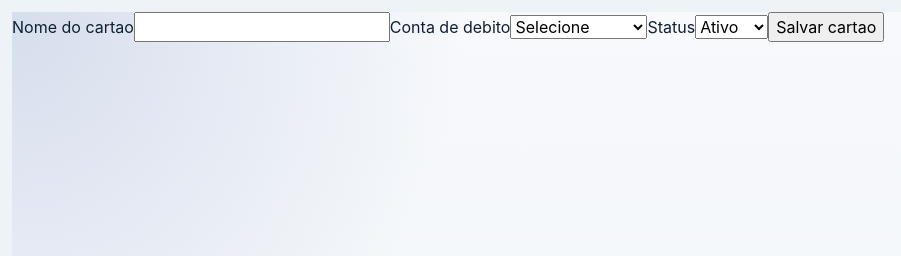
Test: accounts and cards forms validation › bloqueia envio invalido do CardForm e exibe mensagens por campo
The width and height of the screenshot is (901, 256).
Click the button "Salvar cartao" at (826,27), box [768,12,884,42]
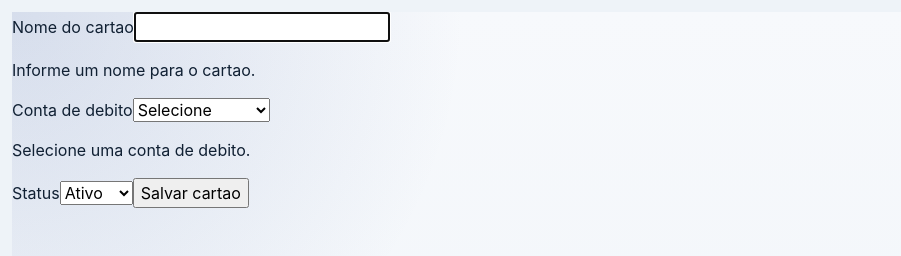
Result: the text "Informe um nome para o cartao." is shown at [12,60,255,80]
Result: the text "Selecione uma conta de debito." is shown at [12,140,250,160]
